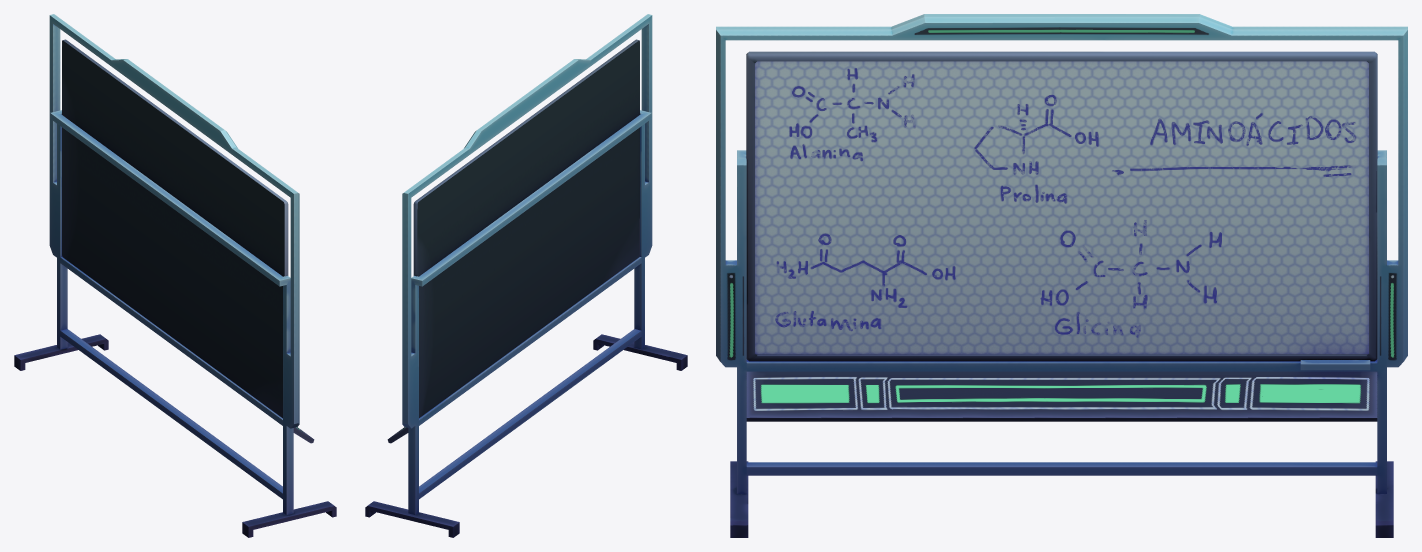
Rendered from Tablero.fbx.
3 views of the same model, side by side, from view 1: azimuth 30°, elevation 25°; view 2: azimuth 150°, elevation 25°; view 3: azimuth 270°, elevation 25° (orthographic). The views are drawn at different scales.
Parts seen in each view (by area): view 1: tablero; view 2: tablero; view 3: tablero.
Part boxes in pixels (<box>): tablero: <box>14,14,336,537</box>; tablero: <box>365,14,687,537</box>; tablero: <box>716,14,1407,537</box>.
Size of the model in its own units: 102 by 382 by 488.
